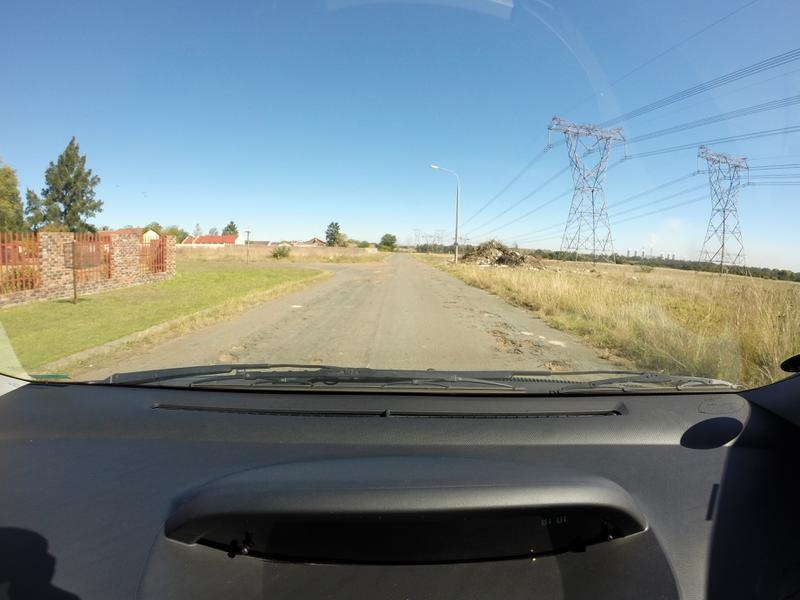pothole: (497, 328, 516, 348), (543, 363, 572, 373), (533, 338, 547, 357), (219, 355, 236, 365), (490, 347, 519, 352), (224, 346, 245, 351), (477, 310, 494, 315), (442, 298, 458, 303), (303, 360, 323, 364)
